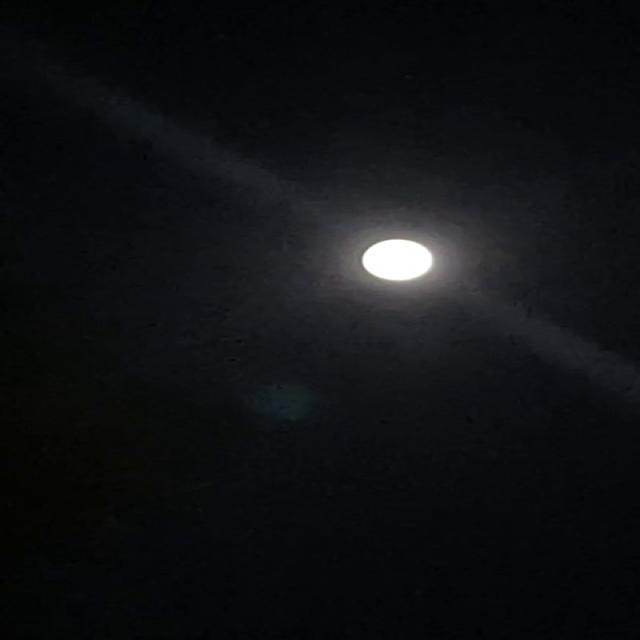moon: (346, 232, 462, 290)
